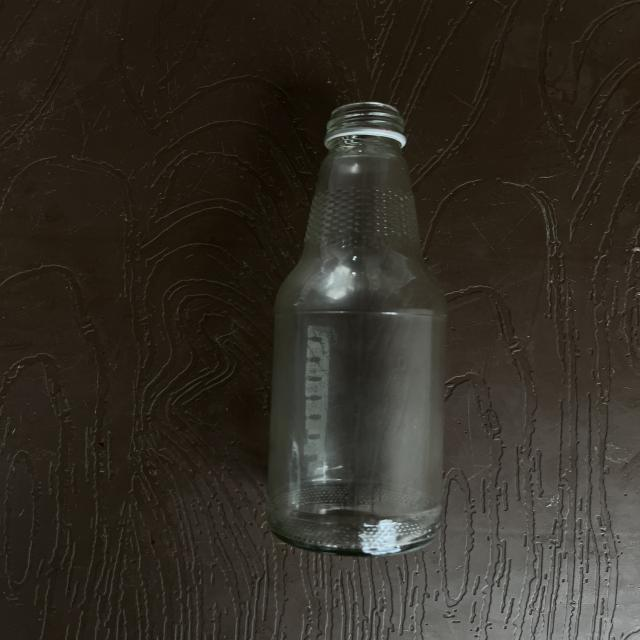Glass_Bottle: (266, 102, 445, 555)
